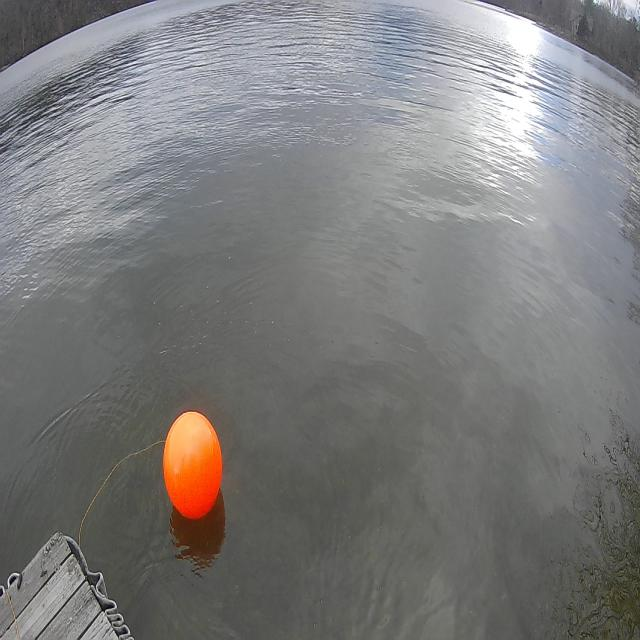Buoy: (160, 404, 225, 531)
